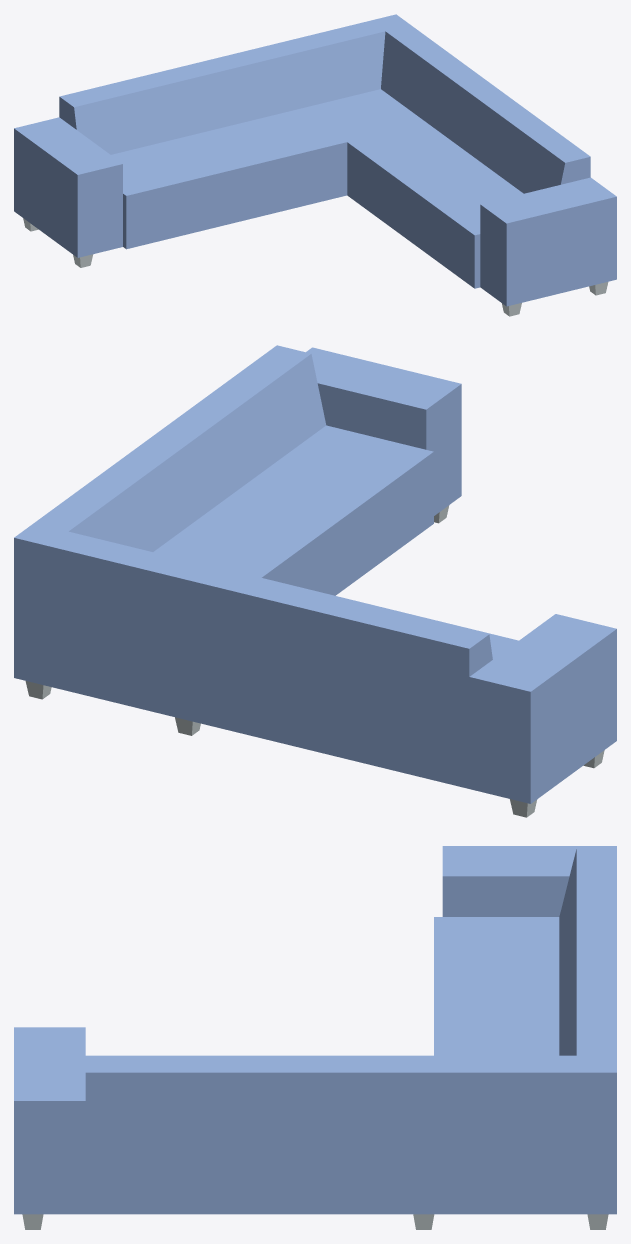
The model's file is loungeDesignSofaCorner.glb.
The picture shows the model from 3 angles, top to bottom: view 1: azimuth 30°, elevation 25°; view 2: azimuth 150°, elevation 25°; view 3: azimuth 270°, elevation 25°; orthographic projection. The views are drawn at different scales.
Parts seen in each view (by area): view 1: loungeDesignSofaCorner(Clone); view 2: loungeDesignSofaCorner(Clone); view 3: loungeDesignSofaCorner(Clone).
Part boxes in pixels (x1,y1,x2,y2): loungeDesignSofaCorner(Clone): [14, 14, 616, 316]; loungeDesignSofaCorner(Clone): [14, 345, 616, 817]; loungeDesignSofaCorner(Clone): [14, 846, 616, 1229].
Bounding box in the file's own units: 1.35 × 0.4 × 1.35.
